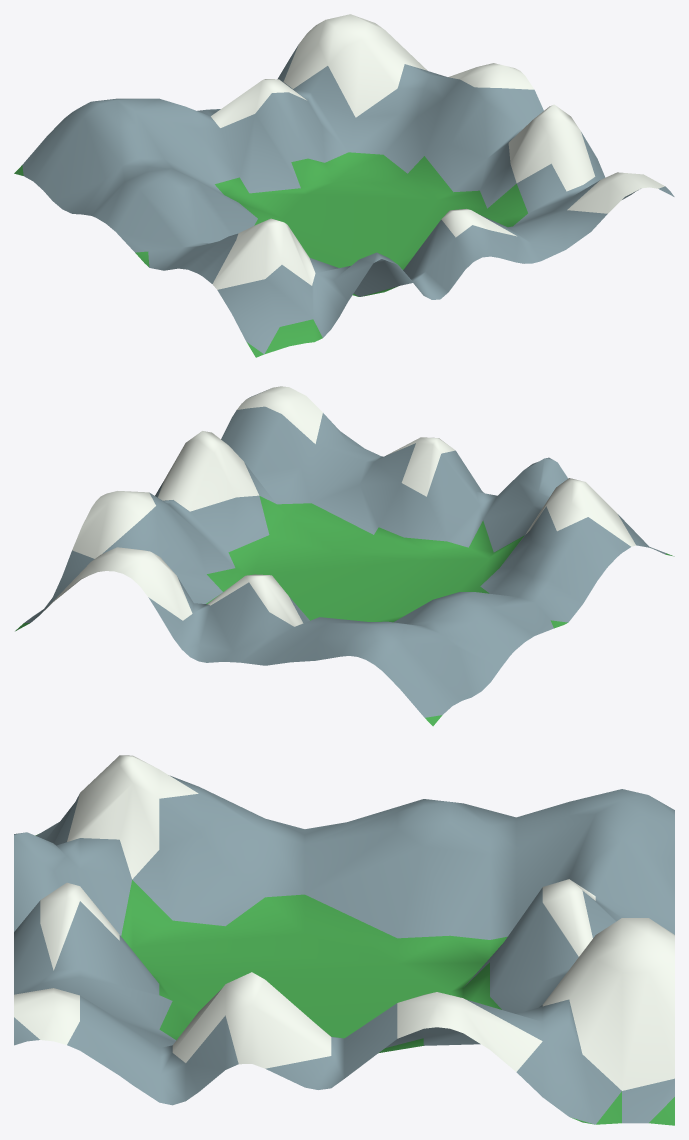
The model's file is background_terrain.fbx.
3 renders of one model, top to bottom at view 1: azimuth 30°, elevation 25°; view 2: azimuth 150°, elevation 25°; view 3: azimuth 270°, elevation 25°, orthographic. The views are drawn at different scales.
Visible parts, largest first — view 1: pPlane1; view 2: pPlane1; view 3: pPlane1.
Boxes of the visible parts, box(x1,y1,x2,y2) form: pPlane1: box(14, 14, 674, 357); pPlane1: box(15, 386, 674, 726); pPlane1: box(14, 755, 674, 1125).
Bounding box in the file's own units: 50 × 11.43 × 50.
1 material, 1 textured.
